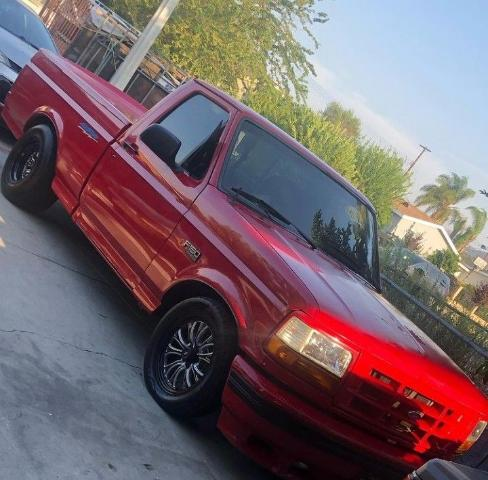pickup-truck: (0, 47, 488, 474)
